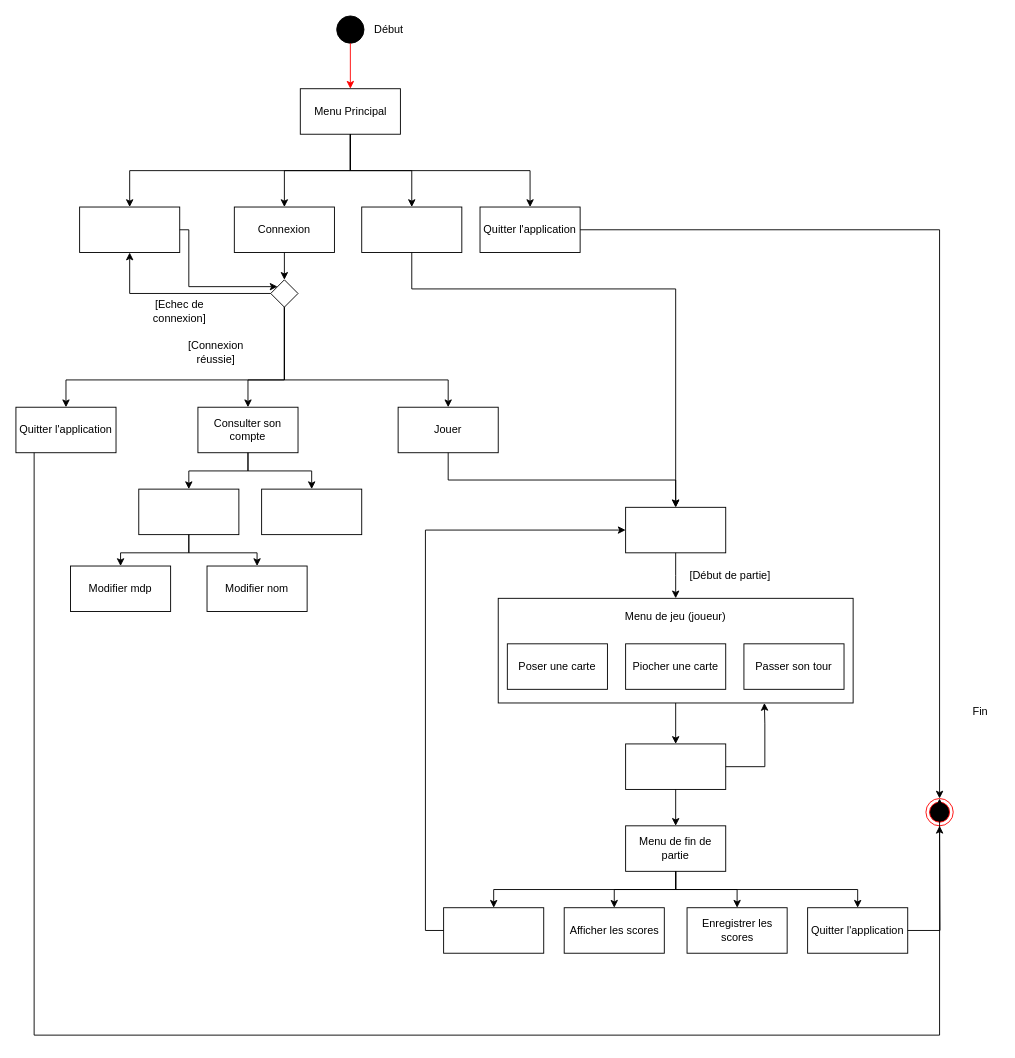
The diagram is 1015 pixels wide and 1058 high, and some of its shapes have lost their labels. Here are the shapes that lost their labels. From the top down, the box of each, then its label:
(79, 206, 180, 253): Création de Compte
(361, 206, 462, 253): Jouer en tant qu'invité
(138, 488, 239, 535): Modifier son compte
(261, 488, 362, 535): Afficher ses statistiques
(625, 506, 726, 553): Sélection de jeu
(625, 743, 726, 789): Affichage du reste du tour
(443, 907, 544, 953): Rejouer
